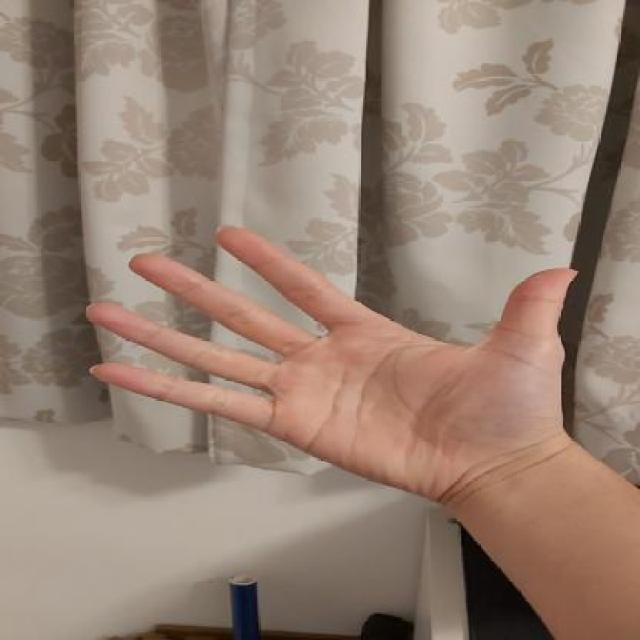bare_hand: (64, 212, 594, 516)
